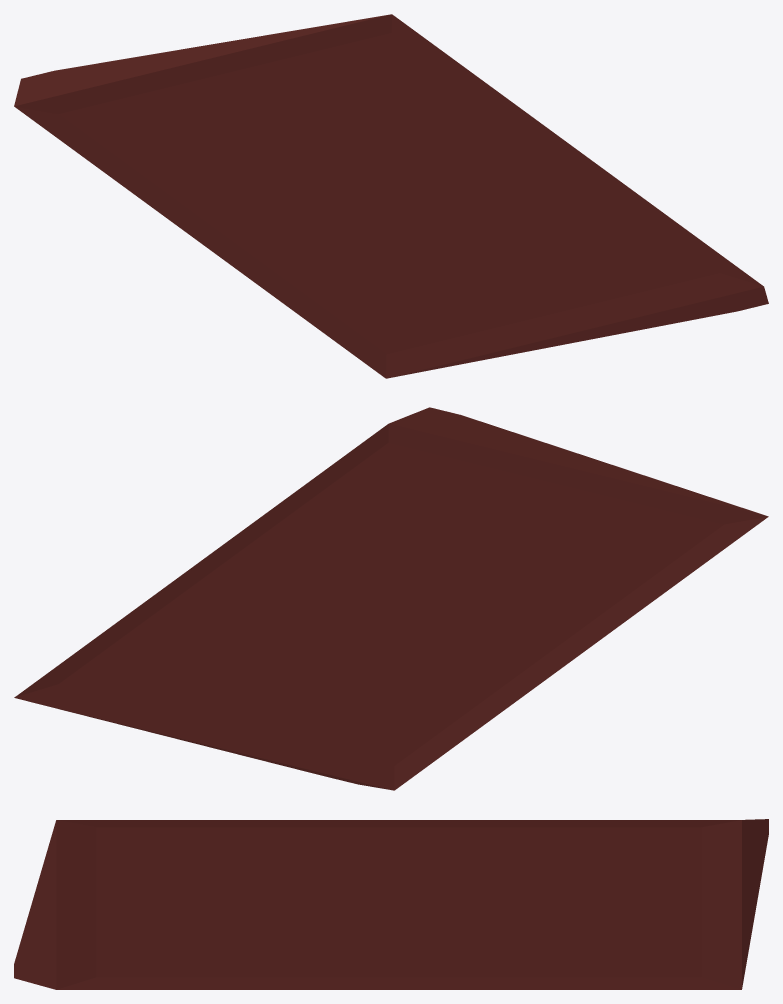
File: Rug.fbx
3 views of the same model, one above another, from view 1: azimuth 30°, elevation 25°; view 2: azimuth 150°, elevation 25°; view 3: azimuth 270°, elevation 25° (orthographic). The views are drawn at different scales.
Visible parts, largest first — view 1: Rug; view 2: Rug; view 3: Rug.
Boxes of the visible parts, x1=… form: Rug: x1=14, y1=14, x2=768, y2=378; Rug: x1=14, y1=407, x2=768, y2=790; Rug: x1=14, y1=819, x2=768, y2=989.
Size of the model in its own units: 728 by 21.34 by 1367.
